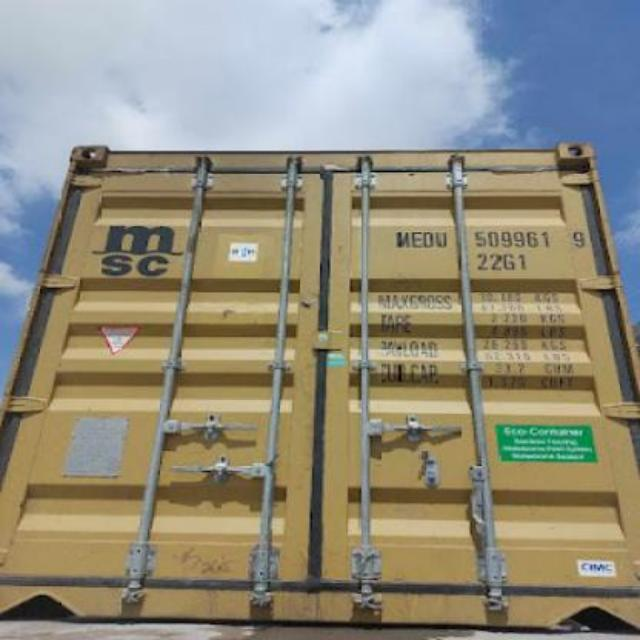0: (488, 229, 500, 247)
1: (540, 229, 552, 249)
5: (474, 229, 488, 247)
6: (526, 229, 540, 249)
9: (512, 229, 526, 249), (501, 229, 514, 247), (572, 231, 586, 247)
D: (422, 231, 436, 249)
E: (411, 231, 424, 249)
M: (394, 231, 410, 247)
U: (434, 229, 450, 249)
